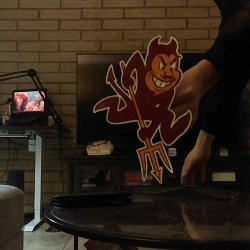sparky: (91, 34, 192, 183)
